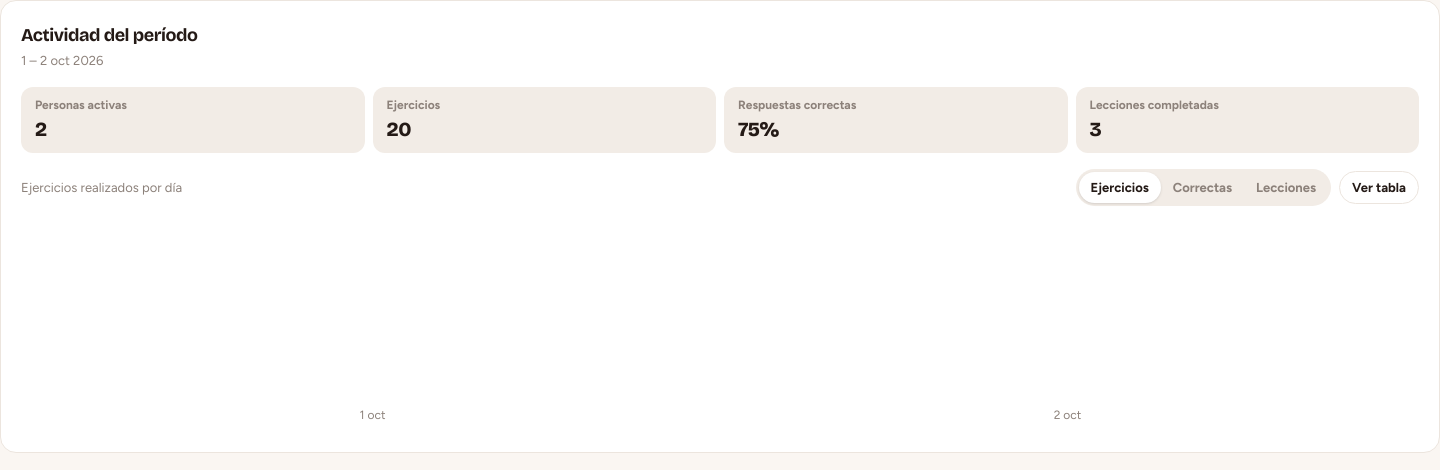
Scenario: PeriodActivity › switches metric and shows the table fallback
Click the button "Lecciones" at coordinates (1286, 187), box left=1244, top=172, right=1328, bottom=203
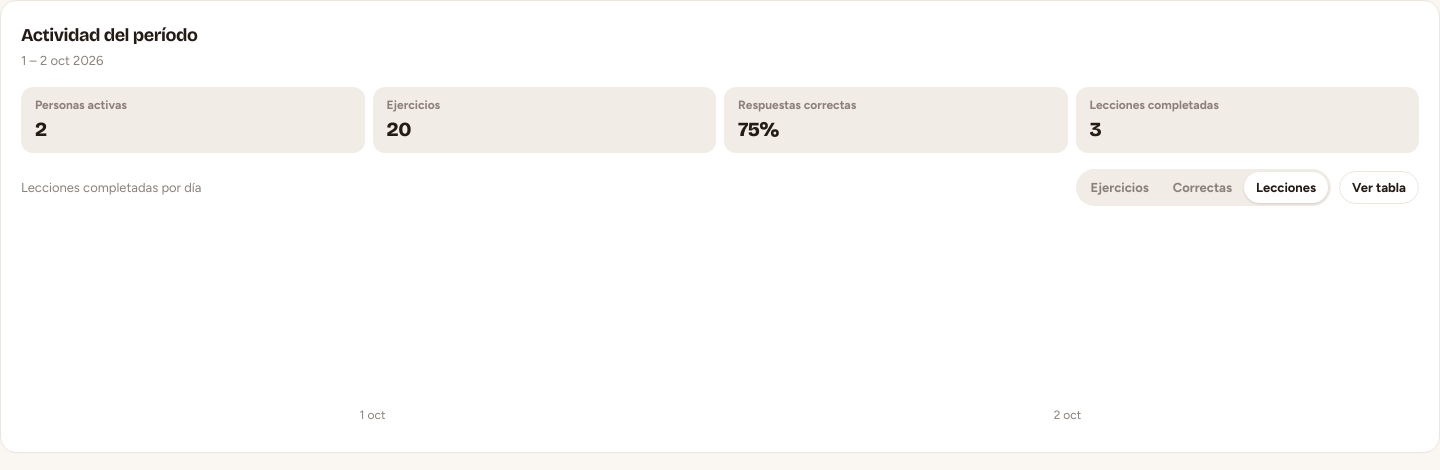
Click the button "Ver tabla" at coordinates (1379, 187), box left=1339, top=170, right=1419, bottom=204
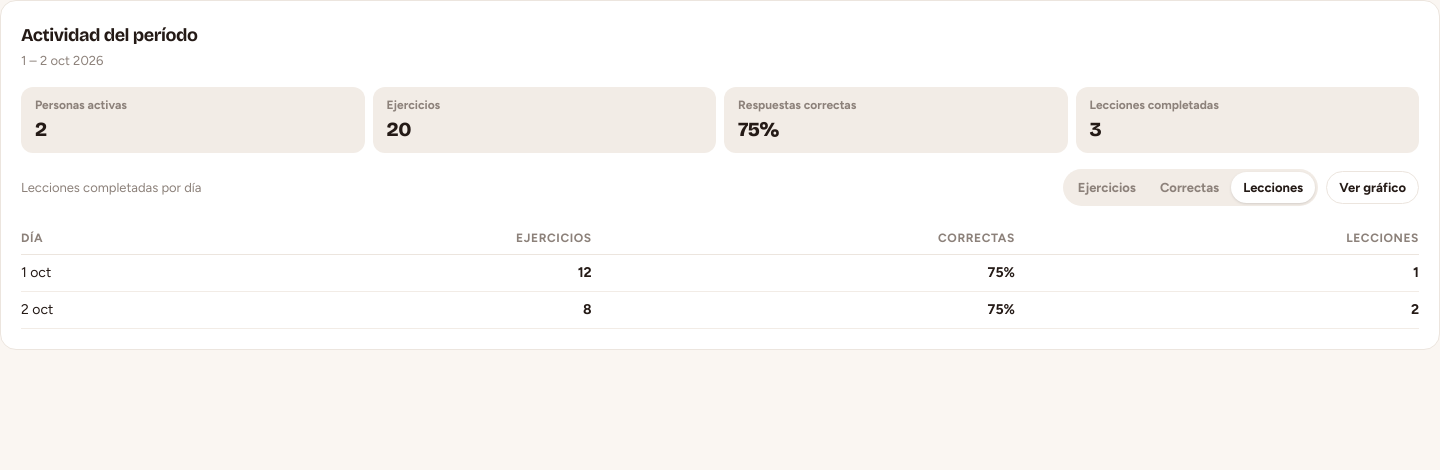
Expected: the table is shown, left=21, top=222, right=1419, bottom=329
Expected: the column heading "DÍA" is shown, left=21, top=222, right=175, bottom=254
